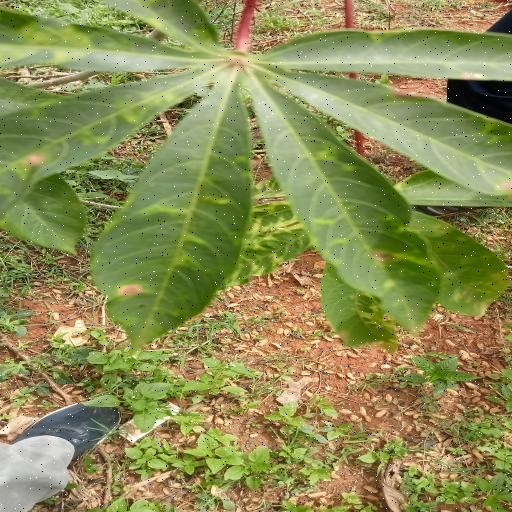Cassava_Brown_Leaf_Spot: (14, 4, 512, 349)
